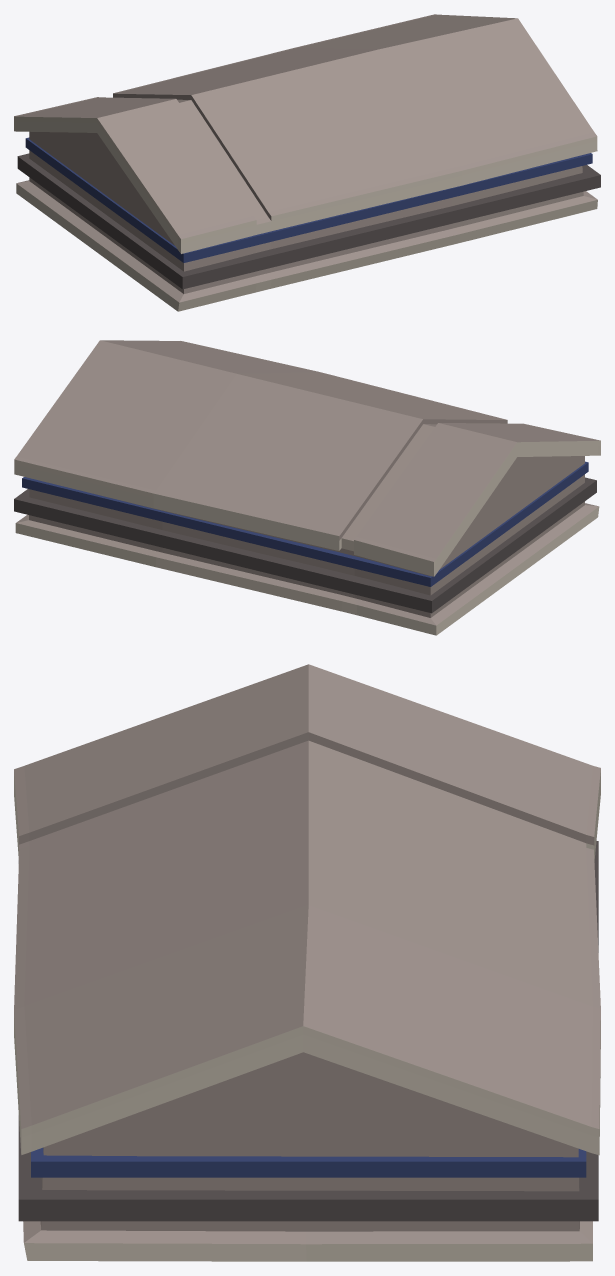
The model's file is Greek_Roof.fbx.
The picture shows the model from 3 angles, top to bottom: view 1: azimuth 30°, elevation 25°; view 2: azimuth 150°, elevation 25°; view 3: azimuth 270°, elevation 25°; orthographic projection. The views are drawn at different scales.
Visible parts, largest first — view 1: Greek_Roof; view 2: Greek_Roof; view 3: Greek_Roof.
Part boxes in pixels (x1,y1,x2,y2): Greek_Roof: [14, 14, 600, 311]; Greek_Roof: [14, 340, 600, 635]; Greek_Roof: [14, 664, 600, 1261].
Size of the model in its own units: 195 by 134 by 59.78.
